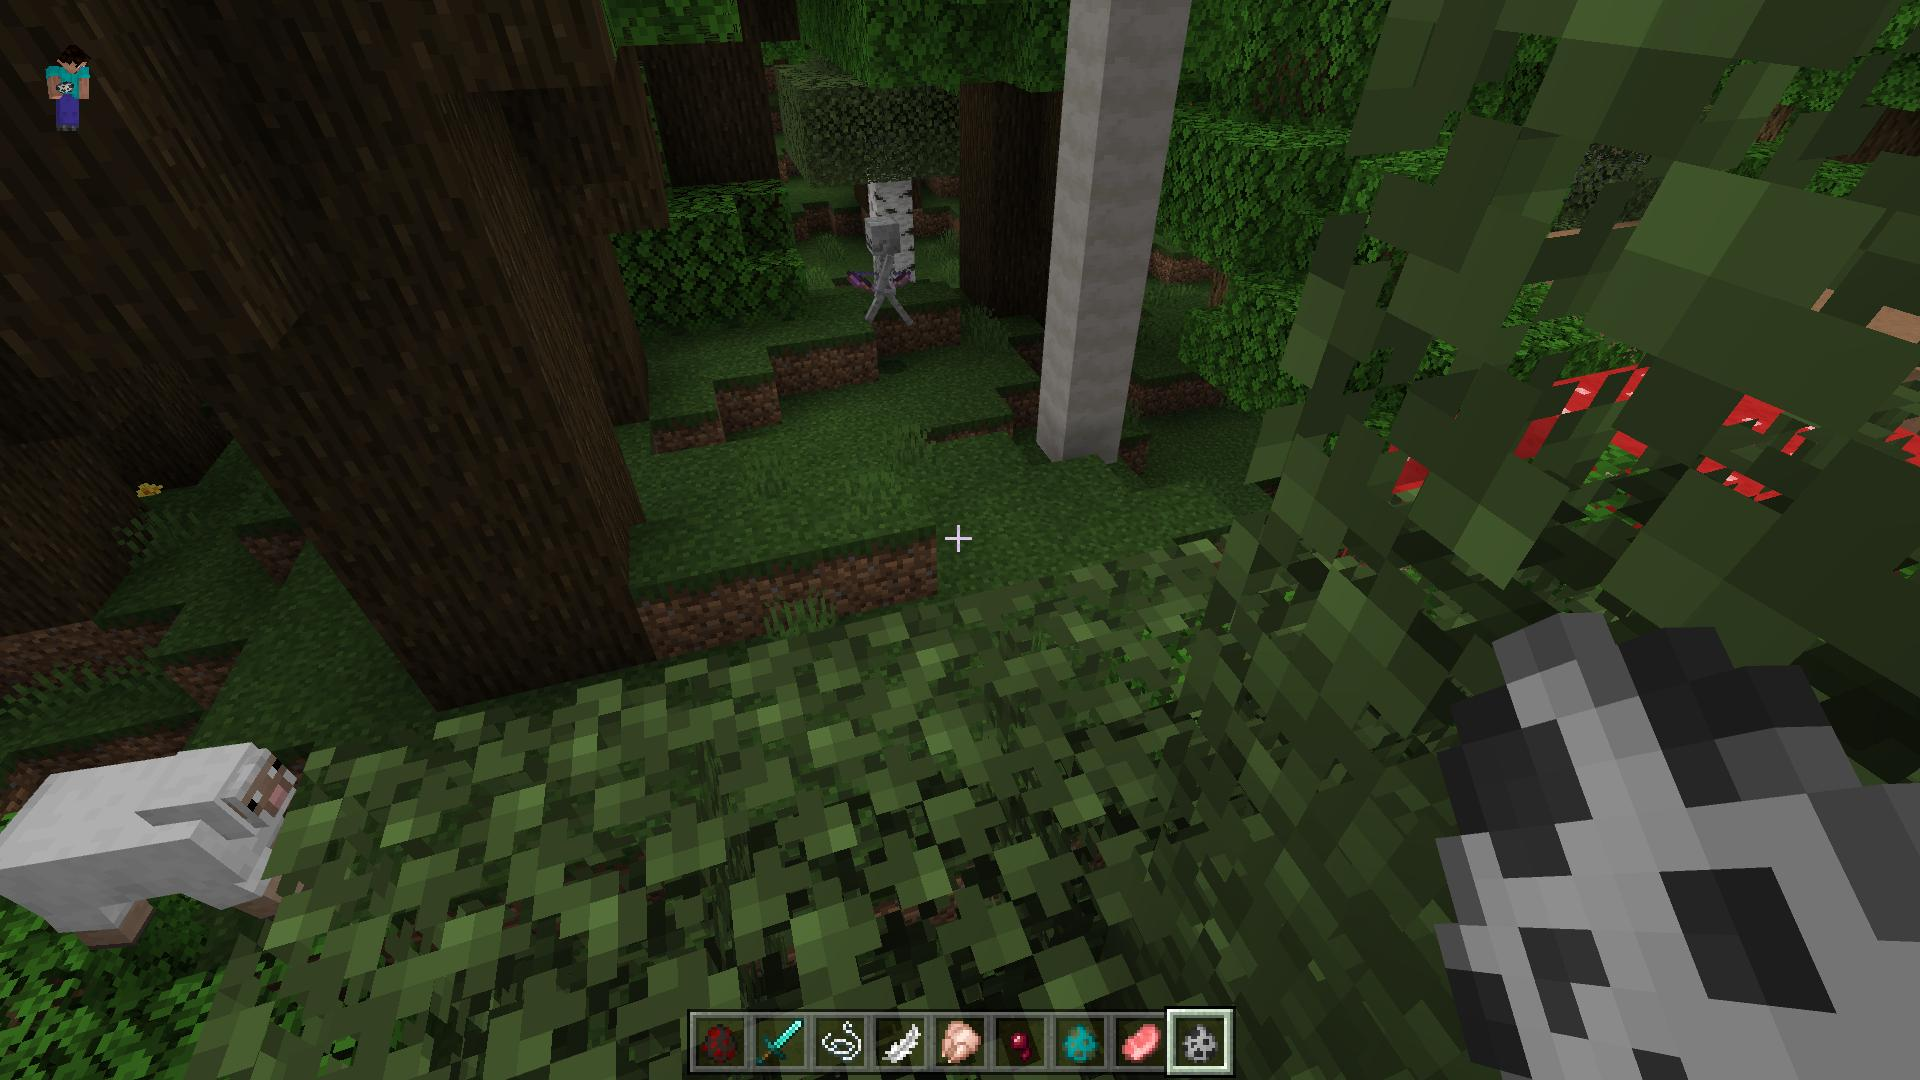sheep: (11, 741, 309, 947)
skeleton: (848, 215, 915, 328)
